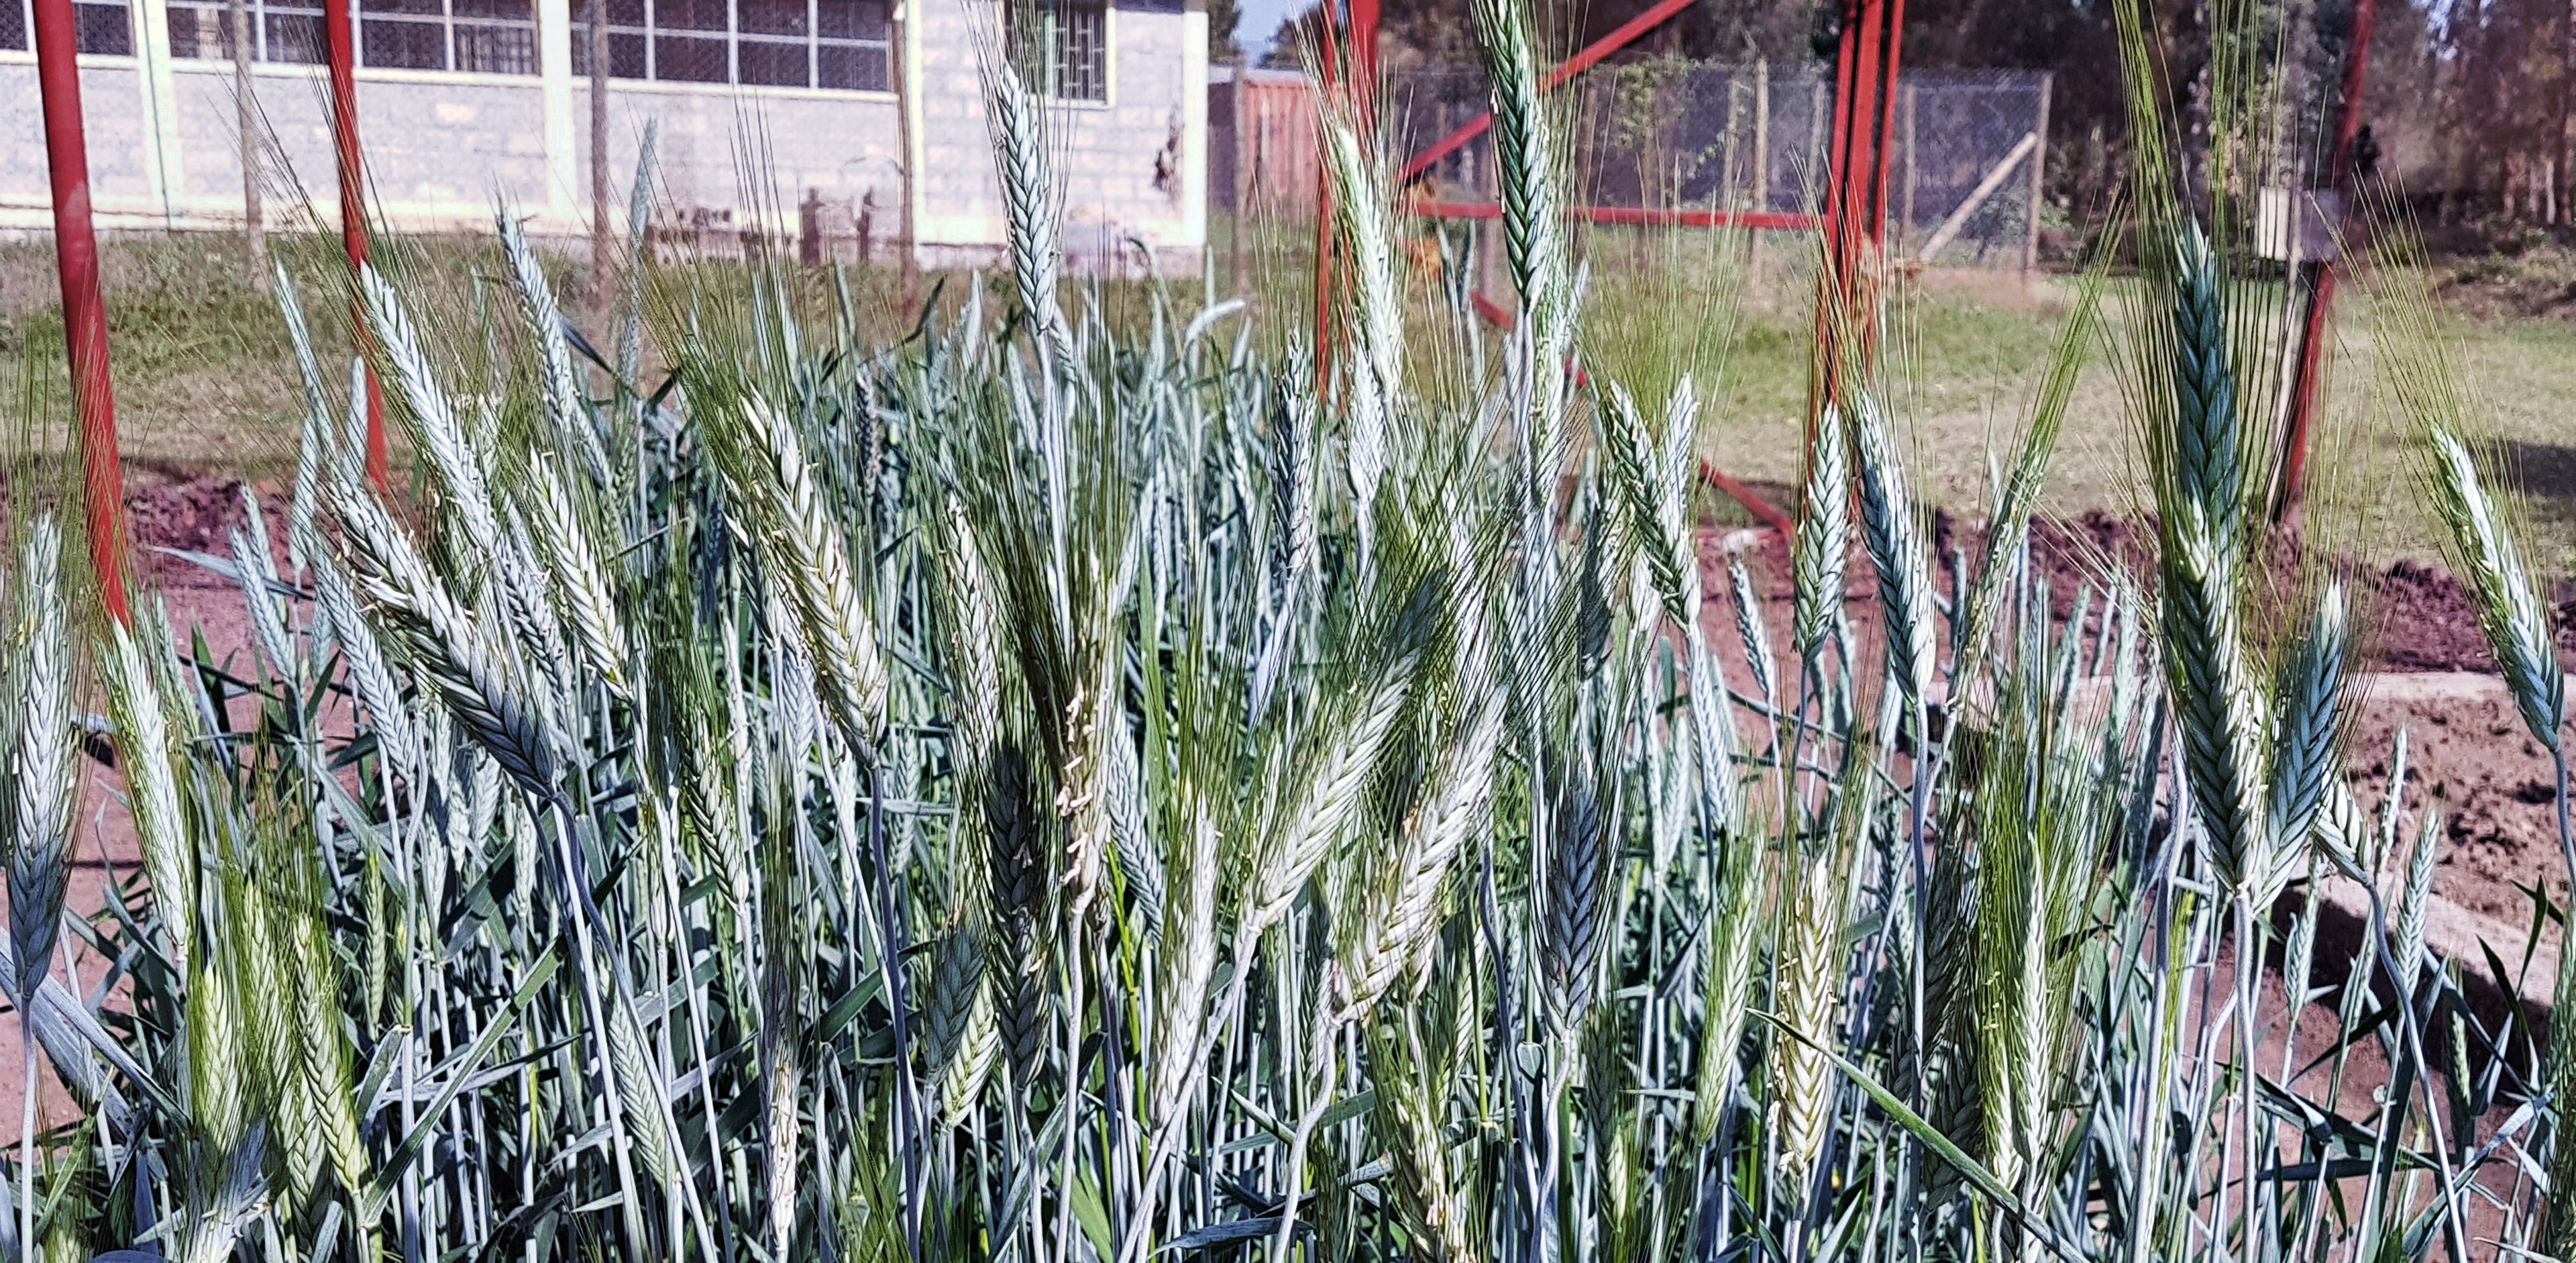Healthy Wheat: (315, 457, 647, 814), (2144, 510, 2387, 913), (1774, 365, 1975, 694), (1470, 0, 1600, 319), (977, 51, 1102, 324)
